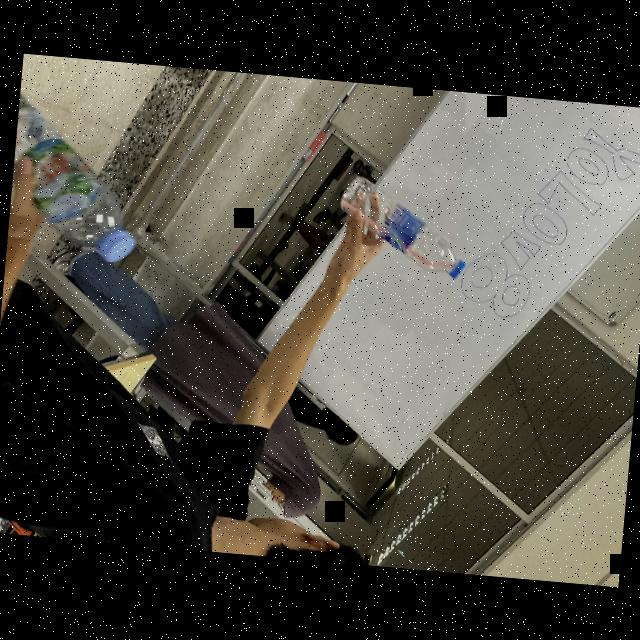plastic_bottle: (5, 91, 146, 263), (333, 177, 472, 279)
